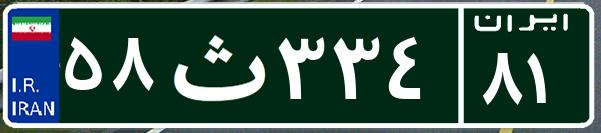1: (525, 38, 570, 115)
3: (273, 28, 330, 110), (330, 28, 385, 110)
4: (385, 28, 445, 110)
5: (57, 26, 110, 107)
8: (475, 38, 525, 113), (110, 28, 158, 105)
ث: (158, 15, 273, 115)
